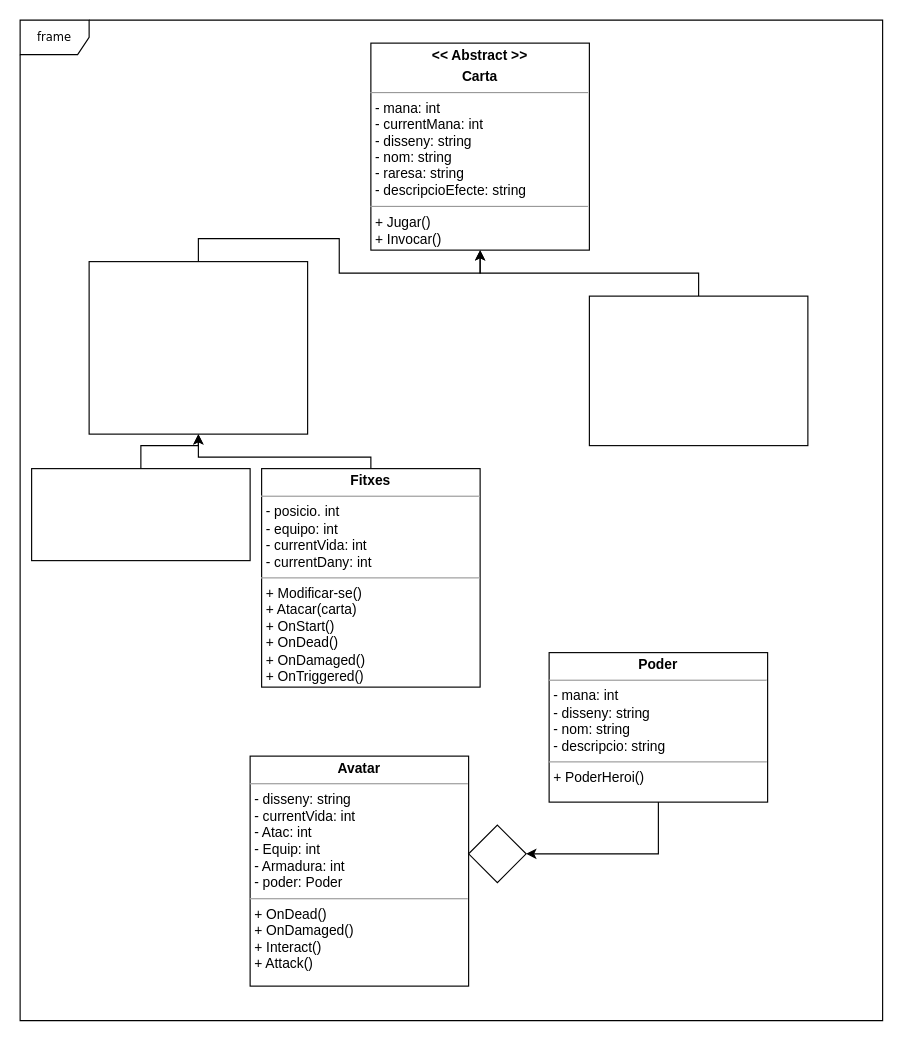
This 903x1041 diagram has some shape labels left out. The box of each missing label's shape, as (x1, y1, x2, y2) in pixels:
<< Abstract >> CartaMes - familia - habilitat - efecte - dany - vida: (88, 260, 308, 434)
Carta Personatge: (30, 467, 250, 561)
CartaConjur - tipusCarta. string + Modificar(carta) + Atacar(carta): (588, 295, 808, 446)
